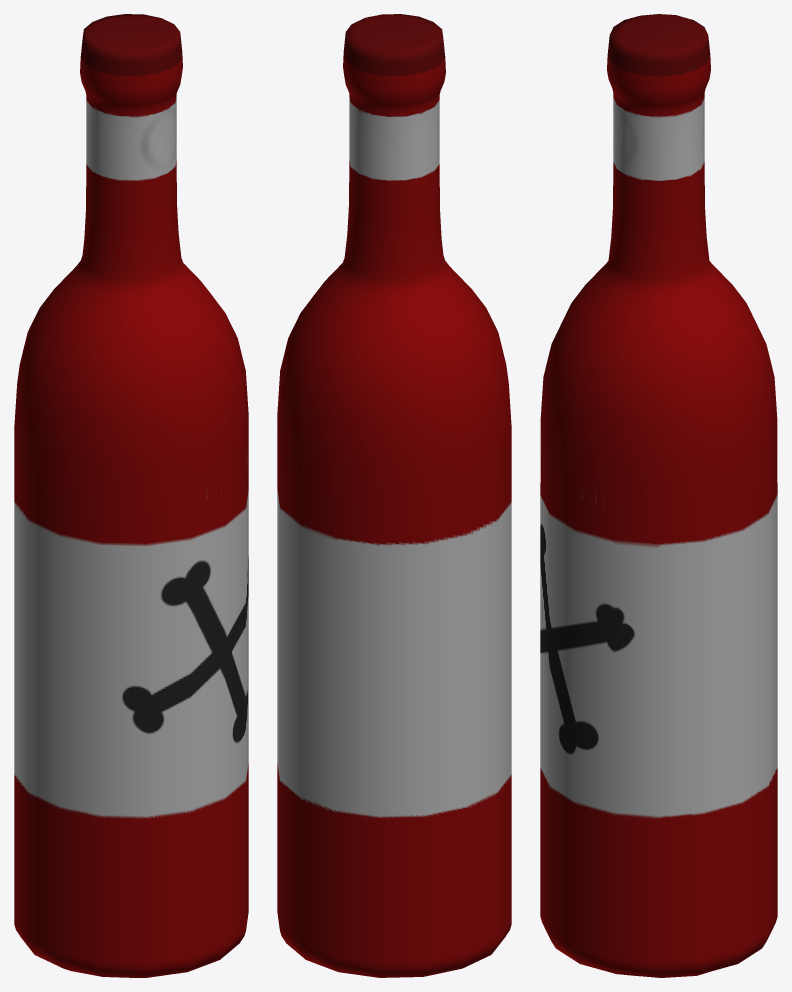
Rendered from wine botte.fbx.
3 views of the same model, side by side, from view 1: azimuth 30°, elevation 25°; view 2: azimuth 150°, elevation 25°; view 3: azimuth 270°, elevation 25° (orthographic).
Visible parts, largest first — view 1: wine_bottle_red; view 2: wine_bottle_red; view 3: wine_bottle_red.
Part boxes in pixels (left/top/right/bottom): wine_bottle_red: left=14, top=14, right=248, bottom=977; wine_bottle_red: left=277, top=14, right=511, bottom=977; wine_bottle_red: left=540, top=14, right=777, bottom=977.
Size of the model in its own units: 10.59 by 44.72 by 10.59.
Materials: 1 (1 with a texture image).
